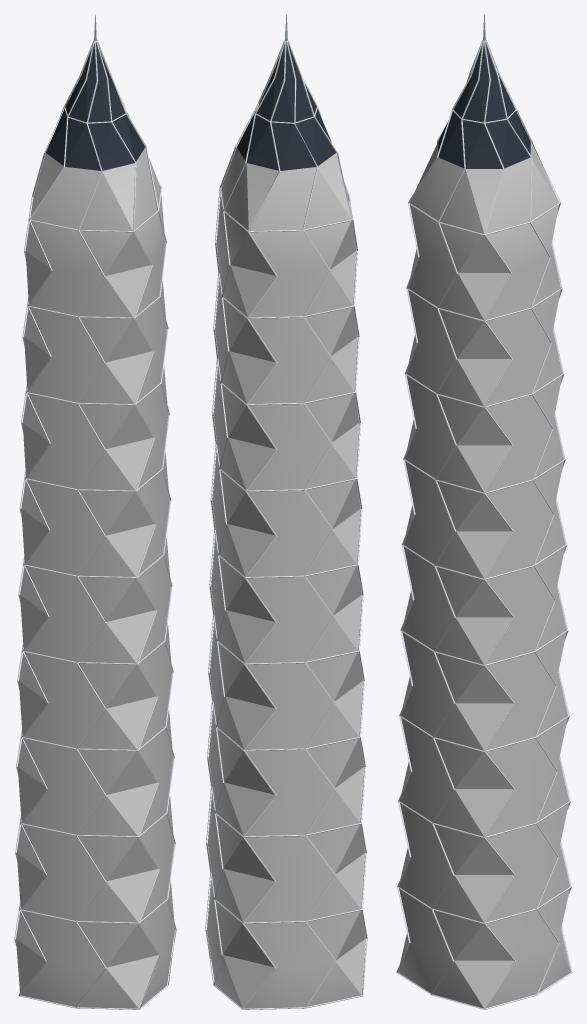
File: SM_PIFTower.fbx
3 views of the same model, side by side, from view 1: azimuth 30°, elevation 25°; view 2: azimuth 150°, elevation 25°; view 3: azimuth 270°, elevation 25° (orthographic).
Parts seen in each view (by area): view 1: SM_PIFTower; view 2: SM_PIFTower; view 3: SM_PIFTower.
Boxes of the visible parts, bbox=[...] form: SM_PIFTower: bbox=[14, 14, 176, 1009]; SM_PIFTower: bbox=[205, 14, 367, 1009]; SM_PIFTower: bbox=[396, 14, 572, 1009].
Size of the model in its own units: 6605 by 39624 by 6605.
